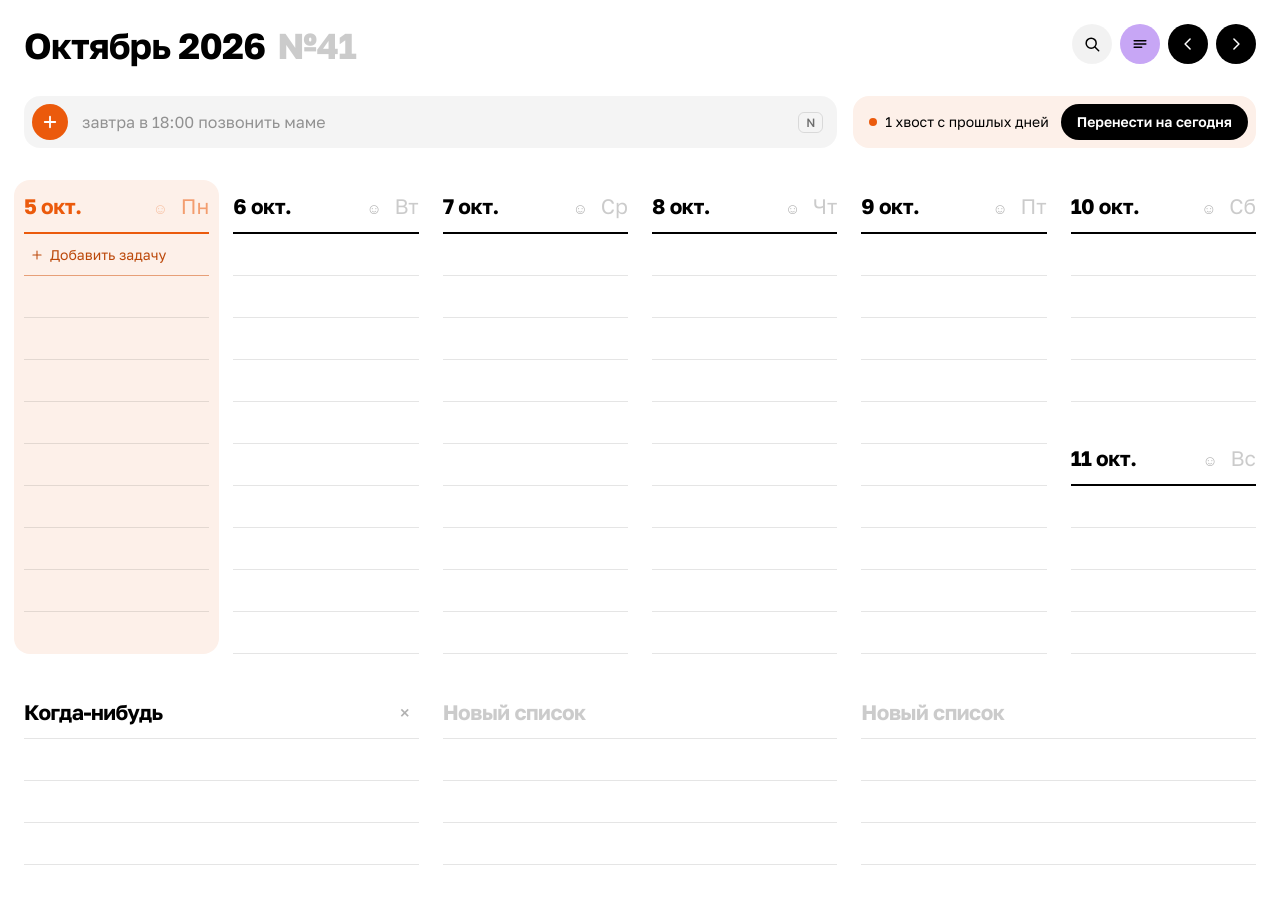
Test: хвосты, счётчики и прогресс › плашка хвостов переносит невыполненное на сегодня
Expected: the text "1 хвост с прошлых дней" is shown, [869, 113, 1049, 131]
What coordinates should you click on to do the following:
click the button "Перенести на сегодня"
I would click on:
 (1154, 122)
Its box is [1061, 104, 1248, 140].
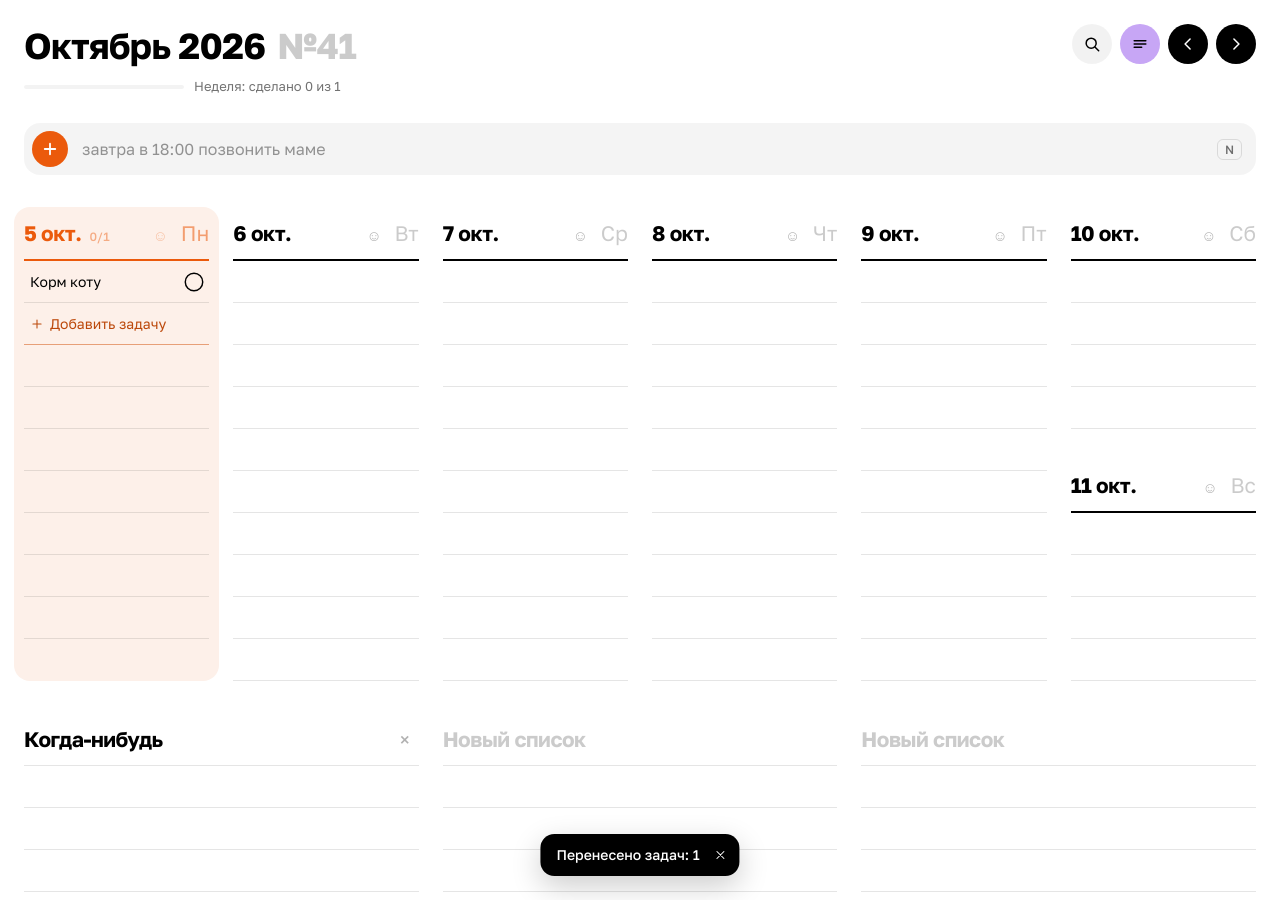
Result: the checkbox named "Корм коту" is shown at [176, 272, 209, 292]
Result: the text "хвост" is gone
